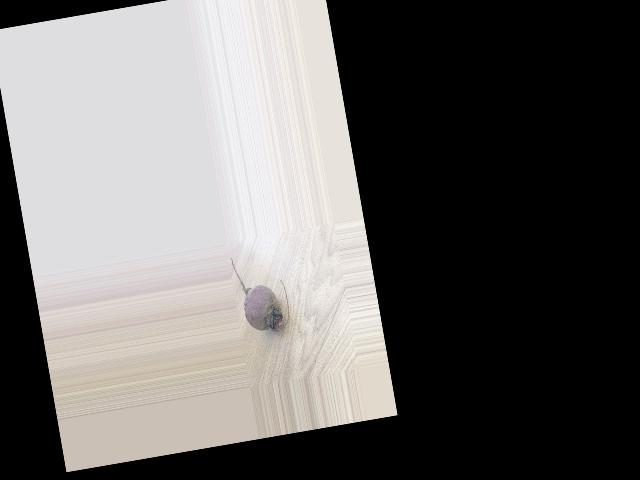beet: (230, 249, 292, 336)
